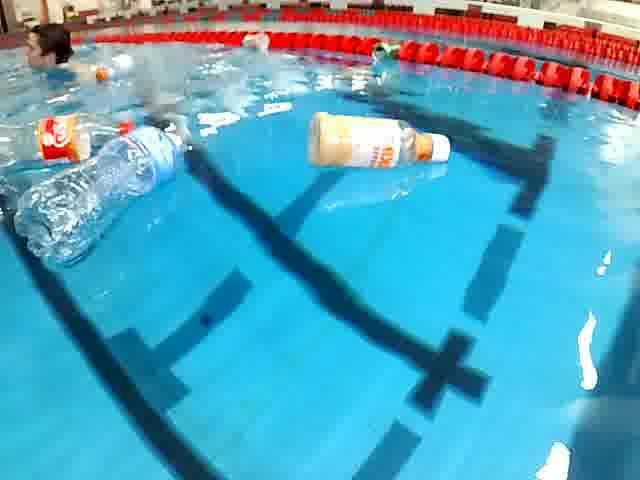Bottle: (11, 123, 194, 274), (295, 108, 460, 183), (0, 110, 139, 172), (238, 28, 276, 53)
Can: (367, 40, 402, 66)
